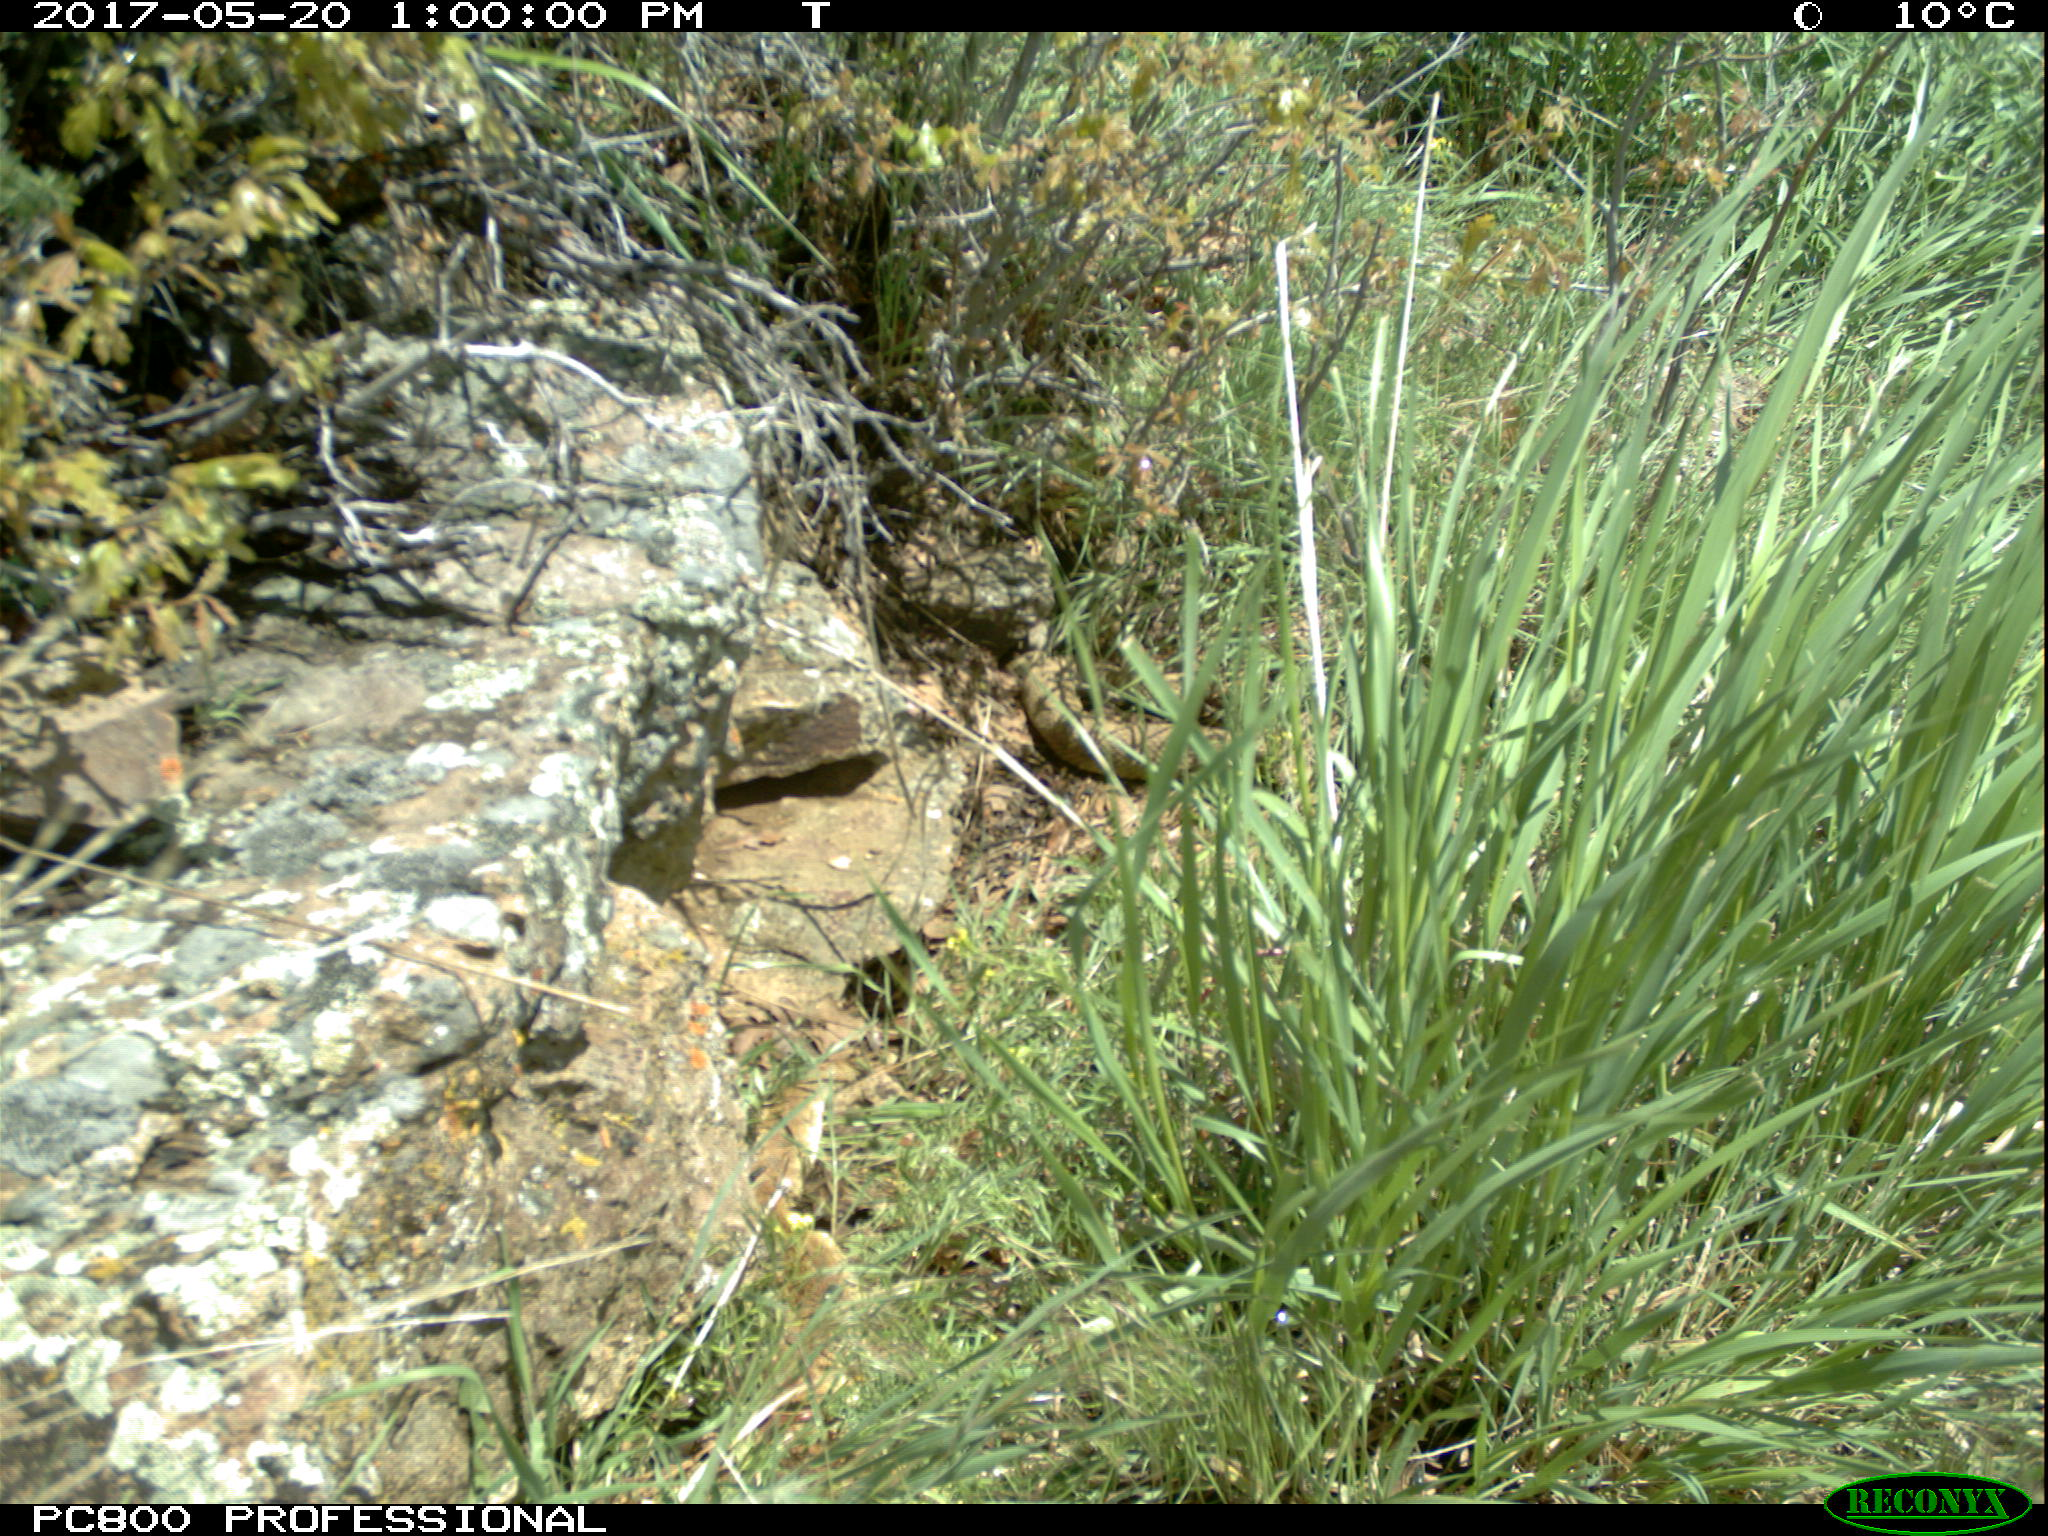snake: (743, 1071, 856, 1404), (1006, 650, 1219, 784)
